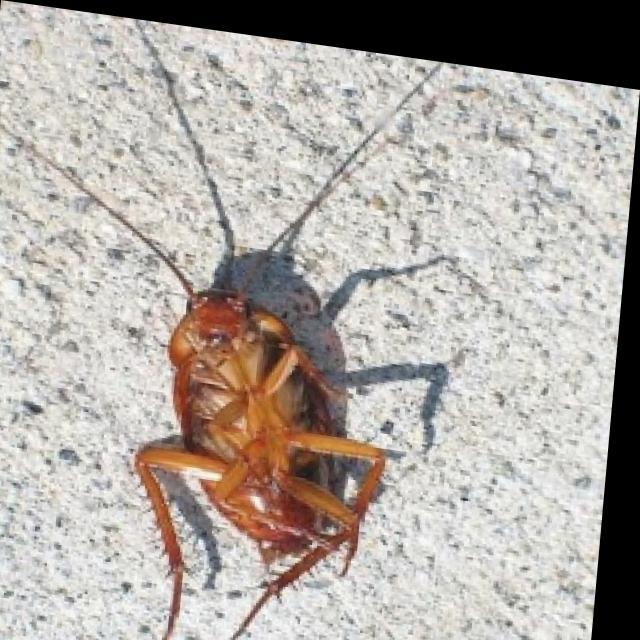cockroach: (163, 287, 363, 550)
